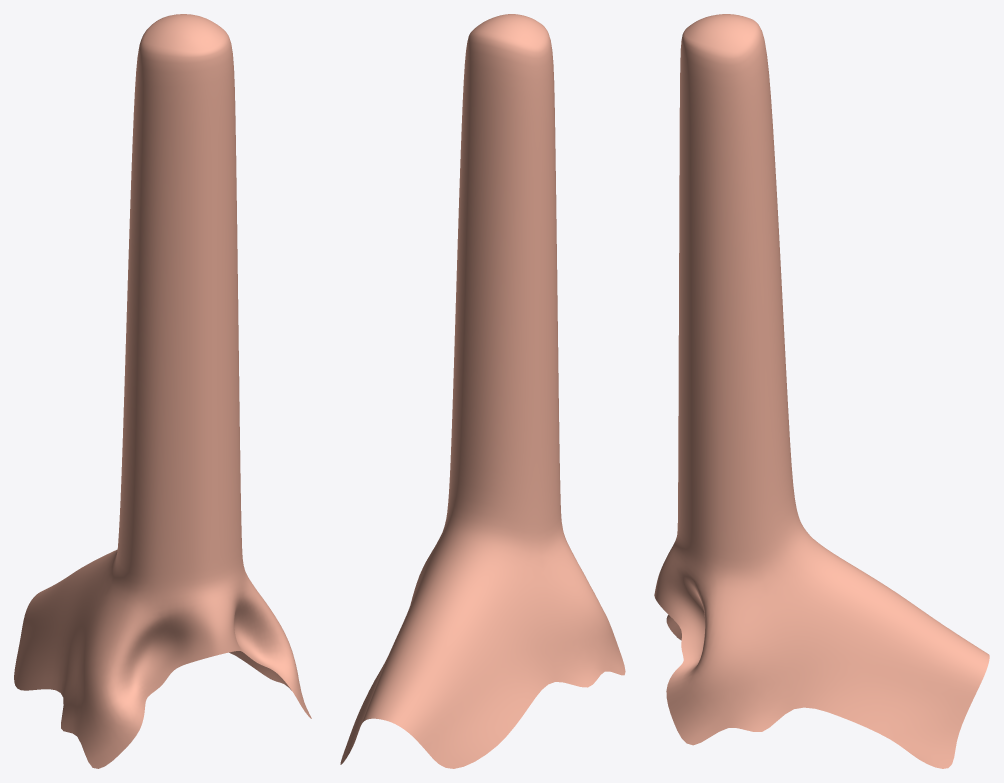
The picture shows the model from 3 angles, left to right: view 1: azimuth 30°, elevation 25°; view 2: azimuth 150°, elevation 25°; view 3: azimuth 270°, elevation 25°; orthographic projection. The views are drawn at different scales.
Parts seen in each view (by area): view 1: nose0; view 2: nose0; view 3: nose0.
Boxes of the visible parts, x1,y1,x2,y2 form: nose0: (14,14,311,768); nose0: (340,14,625,768); nose0: (654,14,989,768).
Size of the model in its own units: 0.3846 by 1.27 by 0.5366.
